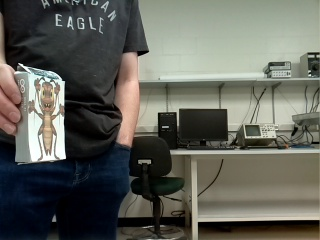Angry: (27, 77, 64, 161)
